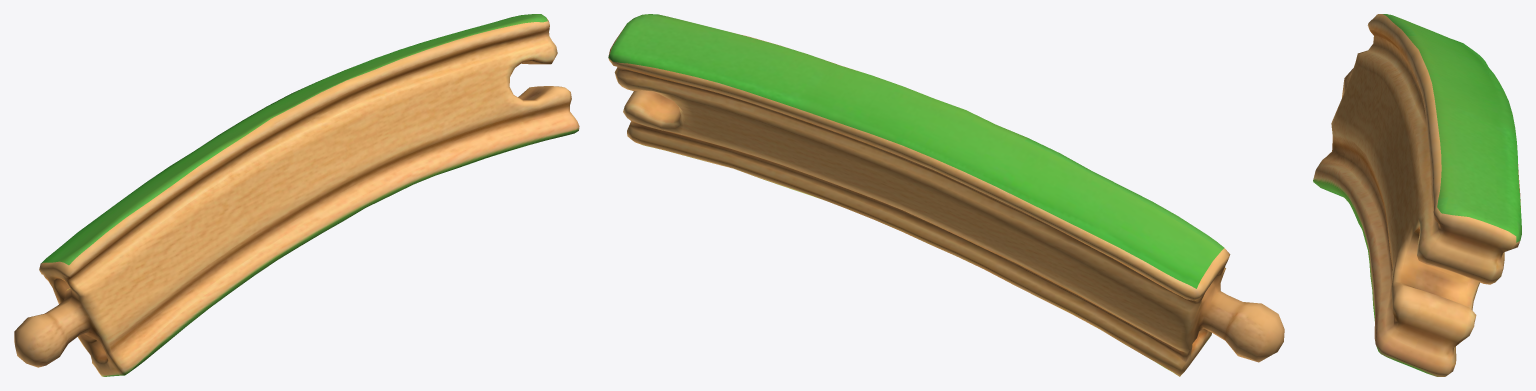
File: WoodTrail_GreenTwist.fbx
3 renders of one model, left to right at view 1: azimuth 30°, elevation 25°; view 2: azimuth 150°, elevation 25°; view 3: azimuth 270°, elevation 25°, orthographic. The views are drawn at different scales.
Parts seen in each view (by area): view 1: Trail_GreednTwist; view 2: Trail_GreednTwist; view 3: Trail_GreednTwist.
Part boxes in pixels (x1,y1,x2,y2): Trail_GreednTwist: (14,14,579,376); Trail_GreednTwist: (608,14,1284,376); Trail_GreednTwist: (1313,14,1521,376).
Bounding box in the file's own units: 47.27 × 18.51 × 10.8.
Materials: 1 (1 with a texture image).
